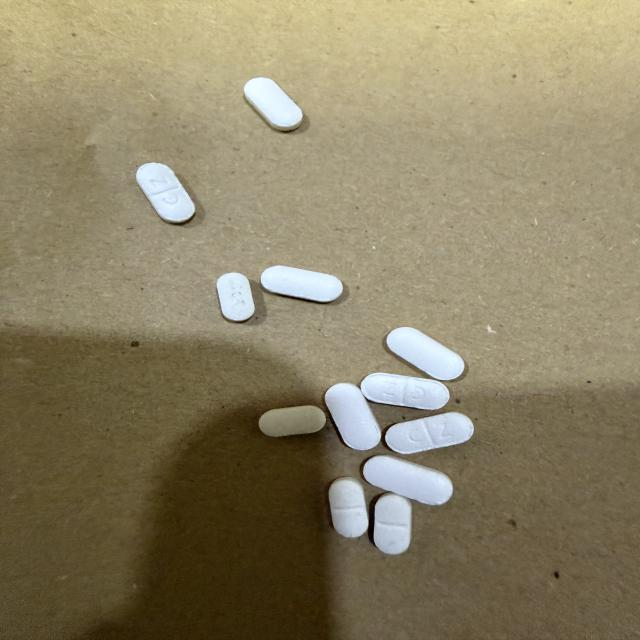pill: (363, 456, 452, 505), (387, 327, 464, 380), (325, 384, 380, 450), (385, 413, 473, 453), (137, 163, 195, 223), (361, 373, 449, 409), (245, 77, 302, 131), (261, 266, 342, 302), (329, 477, 368, 537), (374, 493, 411, 554), (259, 406, 326, 436), (217, 273, 254, 322)
